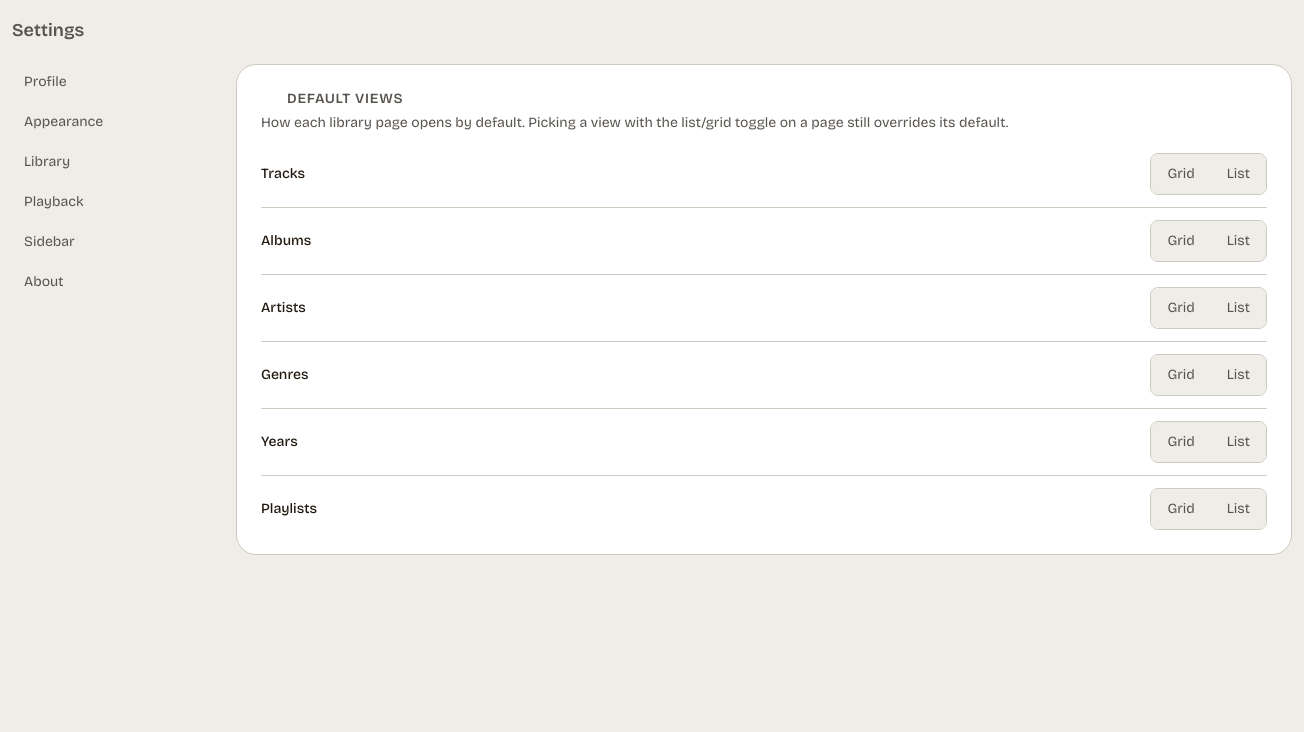
Test: SettingsLibrary › saves a default view per page to localStorage via the save bar
This screenshot has width=1304, height=732.
Click the button "Grid" in the row of "Years" at (1181, 442), box [1152,422,1211,462]
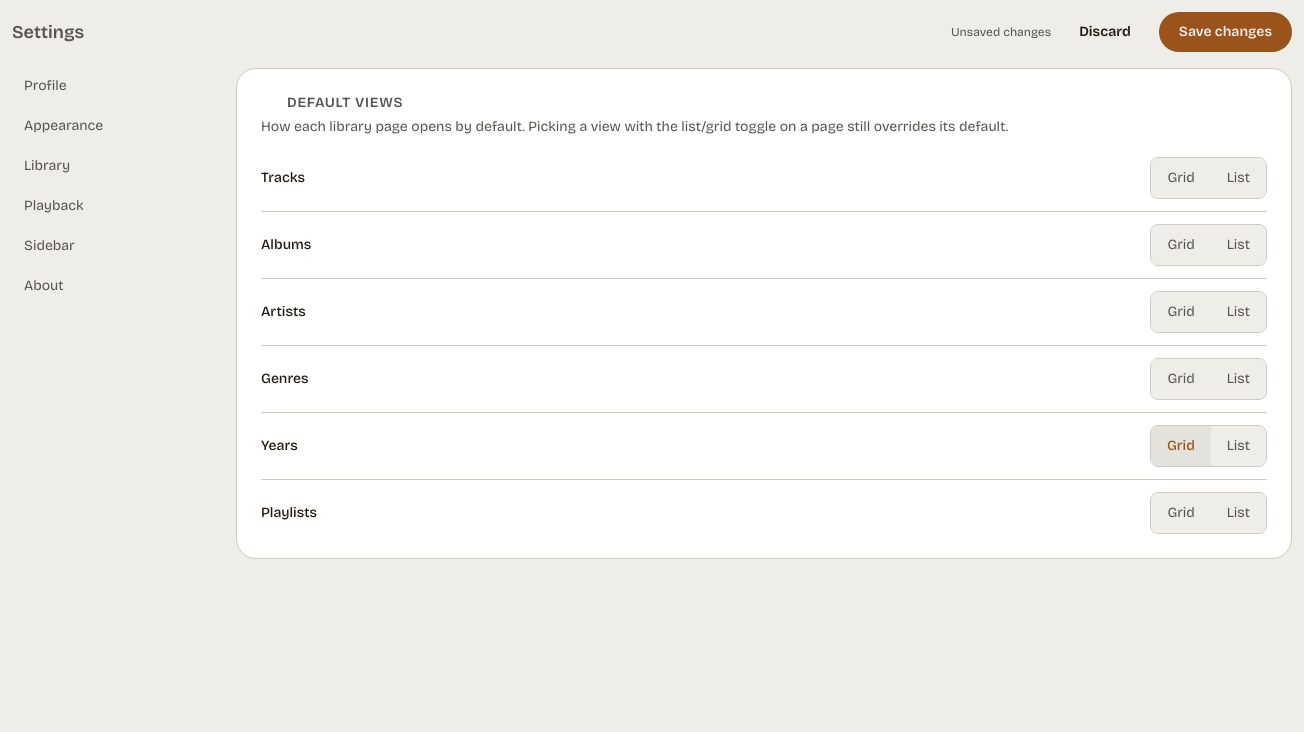
Now the button "Save changes" is shown
Click the button "Save changes" at (1225, 32), box [1159,12,1292,52]
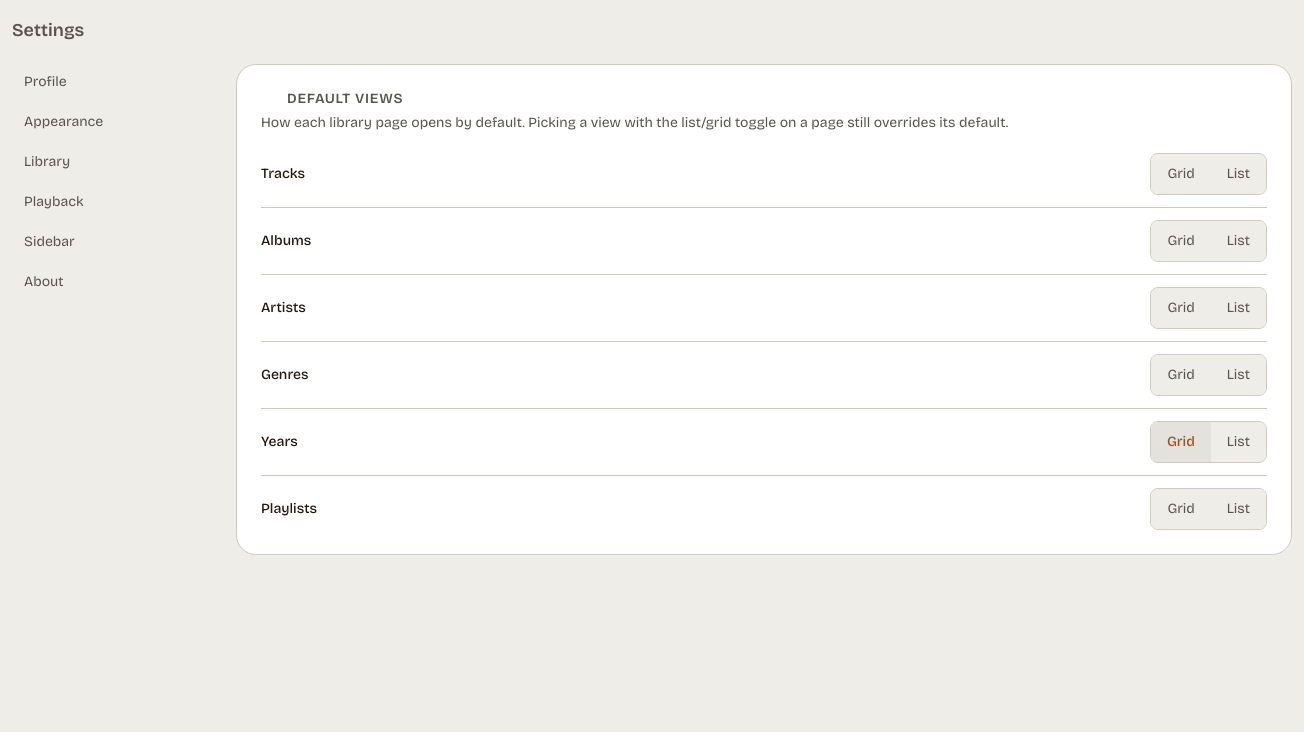
Now the button "Save changes" is gone
